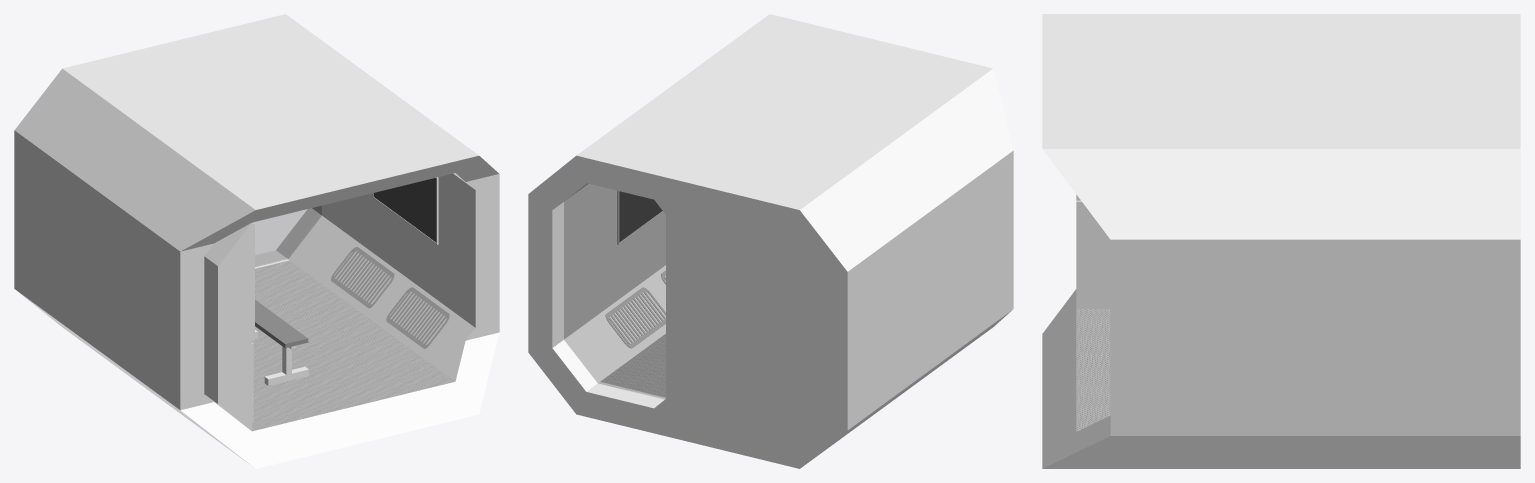
Rendered from ARKHA_L2_ExerciseBay_V1.glb.
3 renders of one model, left to right at view 1: azimuth 30°, elevation 25°; view 2: azimuth 150°, elevation 25°; view 3: azimuth 270°, elevation 25°, orthographic. The views are drawn at different scales.
Parts seen in each view (by area): view 1: 40245, 40249, 40255, 29699, 40251, 40253, Componente#148, 40546; view 2: 40245, 29699, 40253, 40255; view 3: 40245, 40249.
Boxes of the visible parts, x1,y1,x2,y2 form: 40245: [14, 14, 499, 468]; 40249: [204, 222, 254, 430]; 40255: [372, 177, 438, 244]; 29699: [254, 206, 321, 266]; 40251: [386, 287, 449, 348]; 40253: [331, 247, 394, 308]; Componente#148: [255, 300, 308, 348]; 40546: [255, 330, 308, 385]; 40245: [528, 14, 1013, 468]; 29699: [564, 183, 665, 398]; 40253: [605, 287, 665, 348]; 40255: [617, 190, 663, 244]; 40245: [1042, 14, 1520, 468]; 40249: [1076, 194, 1110, 308].
Bounding box in the file's own units: 4 × 3.1 × 4.2.
Materials: 1021 (1 with a texture image).
